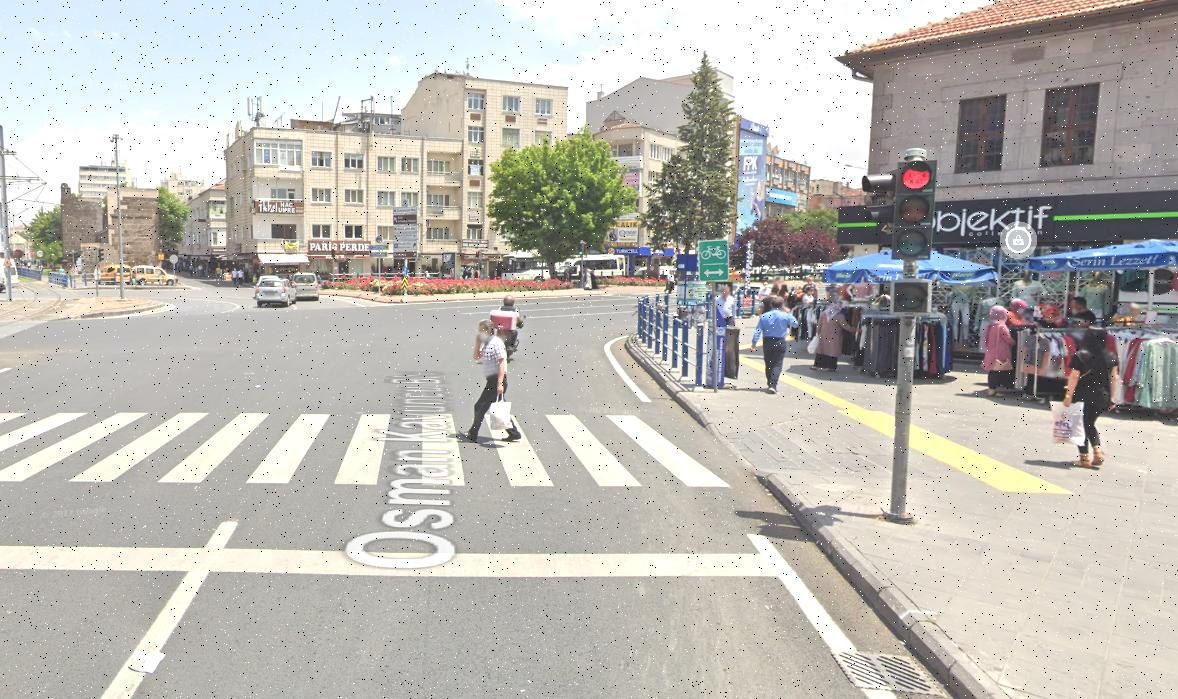redlight: (893, 161, 936, 265)
